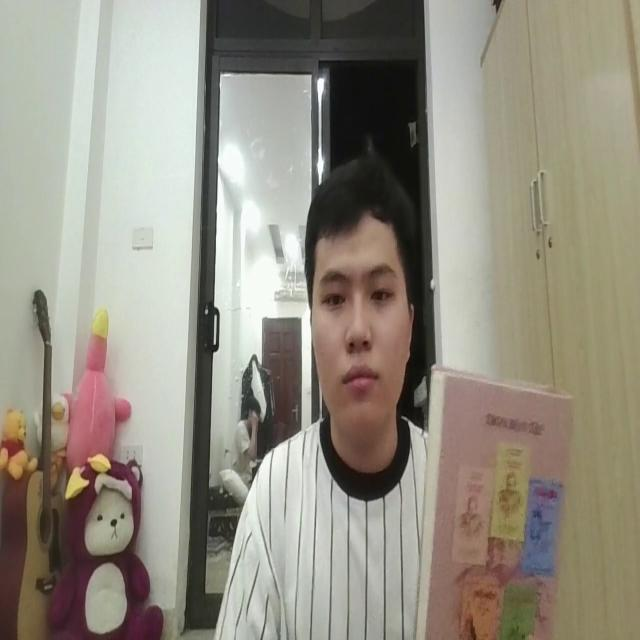book: (416, 346, 567, 640)
student: (216, 157, 442, 640)
